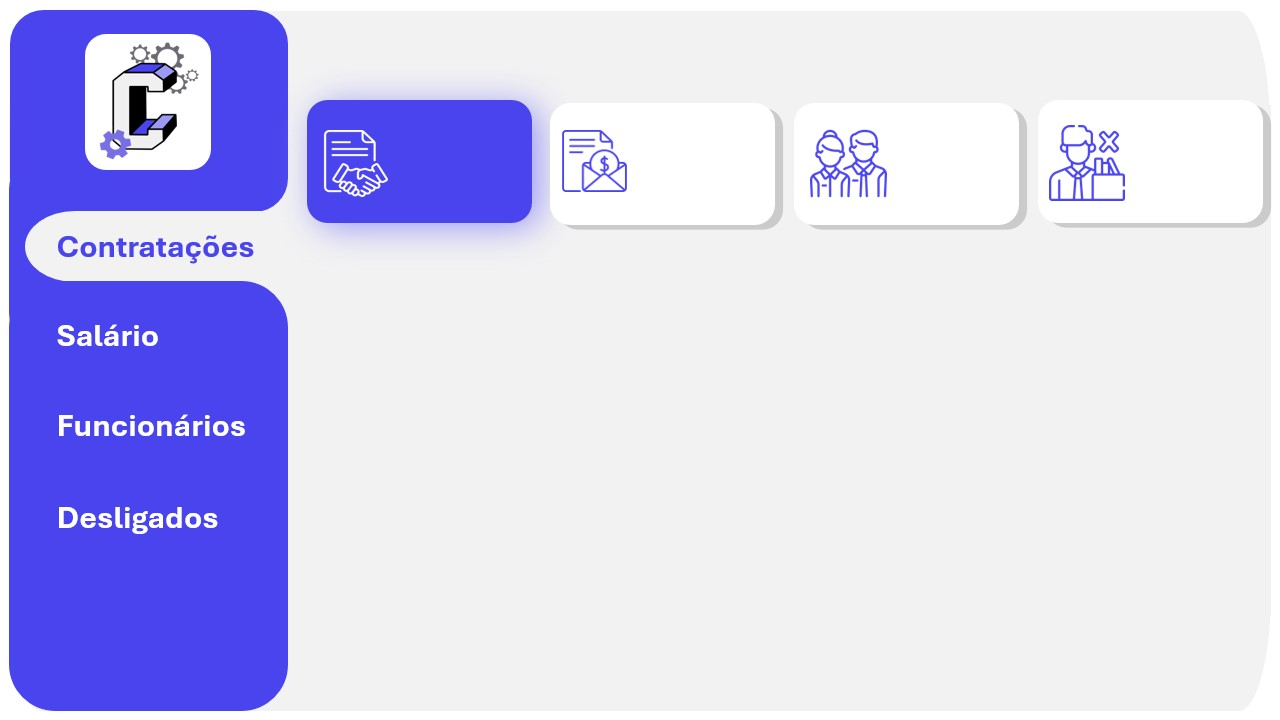

What the dashboard file says about the page in this screenshot:
{"tool":"powerbi","page":{"name":"Página 1","canvas":[1280,720],"ordinal":0},"visuals":[{"type":"actionButton","box":[39.4,301.3,140.2,59.1],"z":0},{"type":"actionButton","box":[39.4,392.8,216.7,59.1],"z":1000},{"type":"actionButton","box":[39.4,486.7,216.7,59.1],"z":2000},{"type":"textbox","box":[565.5,29,385.9,48.7],"z":3000},{"type":"clusteredBarChart","title":"Contratos por área","fields":{"Category":["exemplo_interativo.Area"],"Y":["CountNonNull(exemplo_interativo.FuncionarioID)"]},"box":[325.6,244.5,312.9,446.1],"z":4000},{"type":"cardVisual","fields":{"Data":["CountNonNull(exemplo_interativo.FuncionarioID)"]},"box":[392.8,95,119.3,74.2],"z":5000},{"type":"textbox","box":[403.2,158.7,122.8,59.1],"z":6000},{"type":"cardVisual","fields":{"Data":["Sum(exemplo_interativo.Salario)"]},"box":[619.9,102,141.4,61.4],"z":7000},{"type":"textbox","box":[638.5,158.7,122.8,59.1],"z":8000},{"type":"textbox","box":[889.9,158.7,122.8,59.1],"z":9000},{"type":"textbox","box":[1137.9,158.7,122.8,59.1],"z":10000},{"type":"cardVisual","fields":{"Data":["Sum(exemplo_interativo.Salario)"]},"box":[628,102,130.9,61.4],"z":11000},{"type":"cardVisual","fields":{"Data":["exemplo_interativo.qtd_ativos"]},"box":[889.9,100.8,76.5,61.4],"z":12000},{"type":"cardVisual","fields":{"Data":["exemplo_interativo.qtd_desligados"]},"box":[1137.9,102,76.5,61.4],"z":13000},{"type":"columnChart","title":"Contratos por ano","fields":{"Category":["exemplo_interativo.Ano"],"Y":["CountNonNull(exemplo_interativo.FuncionarioID)"]},"box":[654.7,244.5,606,178.4],"z":14000},{"type":"pieChart","title":"Contratos por tipo de Adulto","fields":{"Category":["exemplo_interativo.Tipo de Adulto"],"Y":["CountNonNull(exemplo_interativo.FuncionarioID)"]},"box":[654.7,441.5,322.1,249.1],"z":15000},{"type":"azureMap","title":"Contratos por Cidade","fields":{"Category":["exemplo_interativo.Cidade"],"Y":["CountNonNull(exemplo_interativo.FuncionarioID)"]},"box":[994.2,441.5,258.4,249.1],"z":16000}]}

Visuals, with their boxes in screenshot pixels (x1, y1, x2, y2), scaled from the page's 1280x720 canvas onto the 1280x720 screenshot:
actionButton: [39, 301, 180, 360]
actionButton: [39, 393, 256, 452]
actionButton: [39, 487, 256, 546]
textbox: [566, 29, 951, 78]
"Contratos por área" clusteredBarChart: [326, 244, 638, 691]
cardVisual - CountNonNull(exemplo_interativo.FuncionarioID): [393, 95, 512, 169]
textbox: [403, 159, 526, 218]
cardVisual - Sum(exemplo_interativo.Salario): [620, 102, 761, 163]
textbox: [638, 159, 761, 218]
textbox: [890, 159, 1013, 218]
textbox: [1138, 159, 1261, 218]
cardVisual - Sum(exemplo_interativo.Salario): [628, 102, 759, 163]
cardVisual - exemplo_interativo.qtd_ativos: [890, 101, 966, 162]
cardVisual - exemplo_interativo.qtd_desligados: [1138, 102, 1214, 163]
"Contratos por ano" columnChart: [655, 244, 1261, 423]
"Contratos por tipo de Adulto" pieChart: [655, 442, 977, 691]
"Contratos por Cidade" azureMap: [994, 442, 1253, 691]
